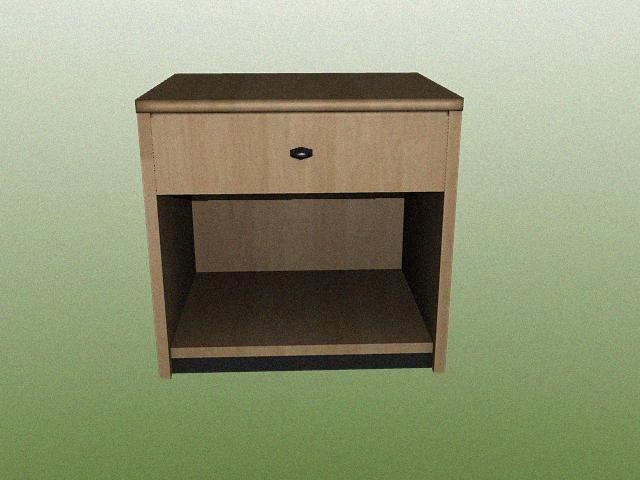cabinet_door: (154, 112, 447, 192)
handle: (284, 145, 314, 163)
